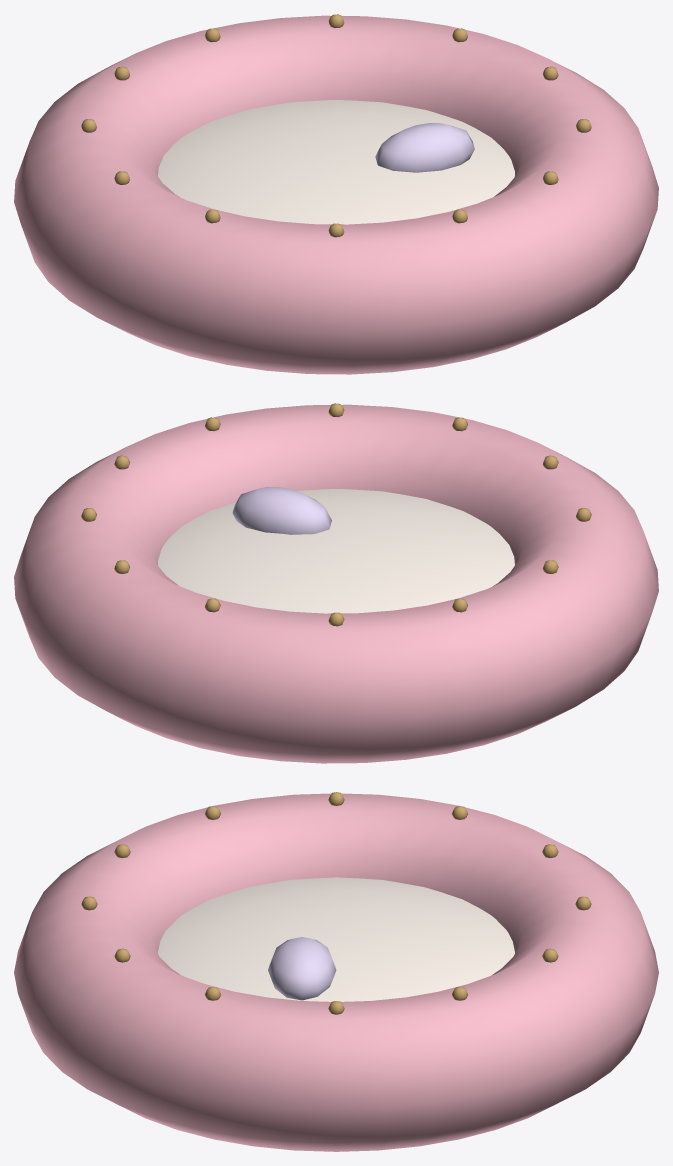
File: furn_petbed.glb
The picture shows the model from 3 angles, top to bottom: view 1: azimuth 30°, elevation 25°; view 2: azimuth 150°, elevation 25°; view 3: azimuth 270°, elevation 25°; orthographic projection.
Parts seen in each view (by area): view 1: Sphere; view 2: Sphere; view 3: Sphere.
Part boxes in pixels (x1,y1,x2,y2): Sphere: (14, 14, 658, 374); Sphere: (14, 403, 658, 763); Sphere: (14, 792, 658, 1151).
Size of the model in its own units: 0.94 by 0.242 by 0.94.
